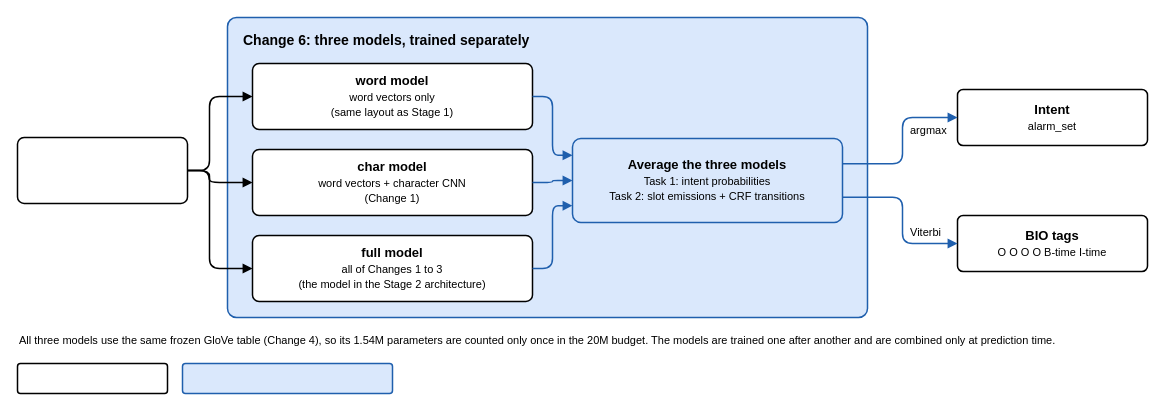
Image size: 1166x412. Some labels were removed from this diagram. The shapes that lost their labels are listed below. From the top down, each one's centre as x and y in pixels, then its label:
At (102,170): "Input utterance wake me up at nine am".
At (92,378): "Same as Stage 1".
At (287,378): "New in Stage 2 (Change N)".
